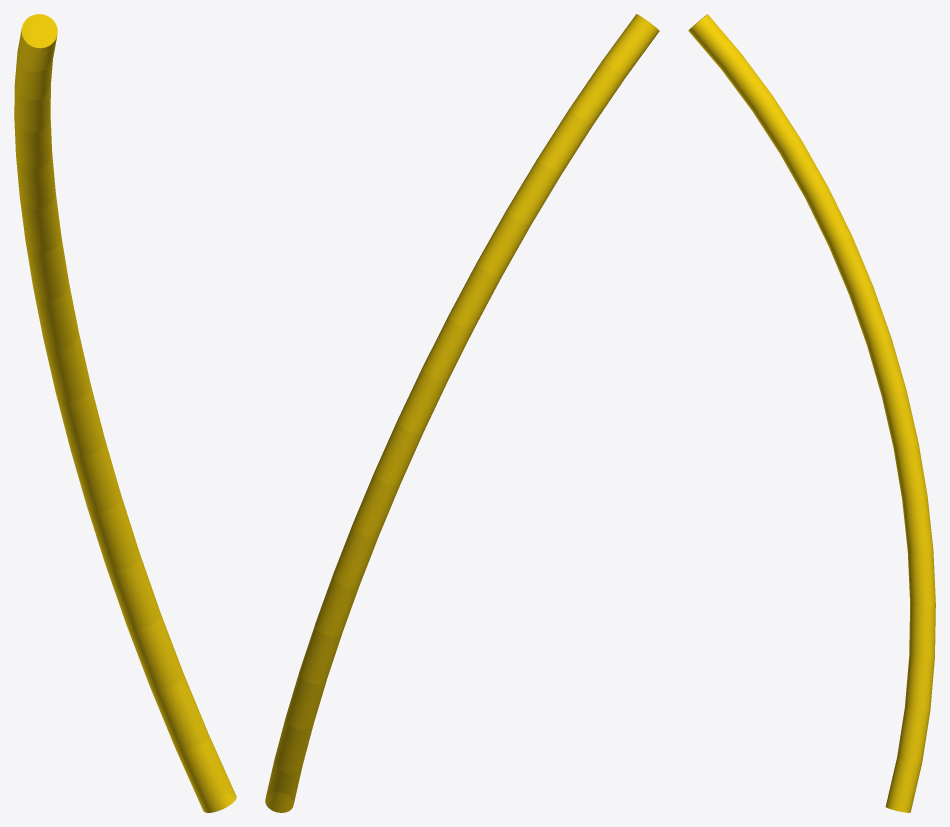
The model's file is Event_421115418_track_128.fbx.
3 views of the same model, side by side, from view 1: azimuth 30°, elevation 25°; view 2: azimuth 150°, elevation 25°; view 3: azimuth 270°, elevation 25° (orthographic). The views are drawn at different scales.
Parts seen in each view (by area): view 1: Model; view 2: Model; view 3: Model.
Boxes of the visible parts, x1=… form: Model: x1=14, y1=14, x2=236, y2=812; Model: x1=265, y1=14, x2=659, y2=812; Model: x1=688, y1=14, x2=935, y2=812.
Bounding box in the file's own units: 0.4466 × 1.18 × 0.385.
